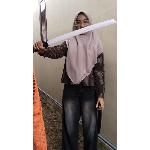Pedang: (33, 18, 117, 58)
